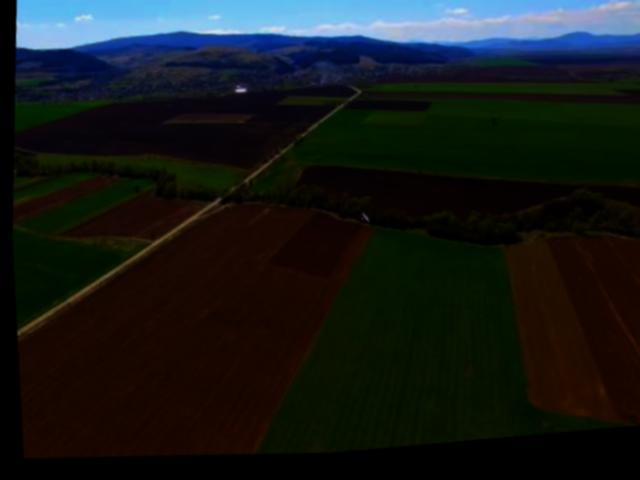uav: (352, 210, 373, 234)
